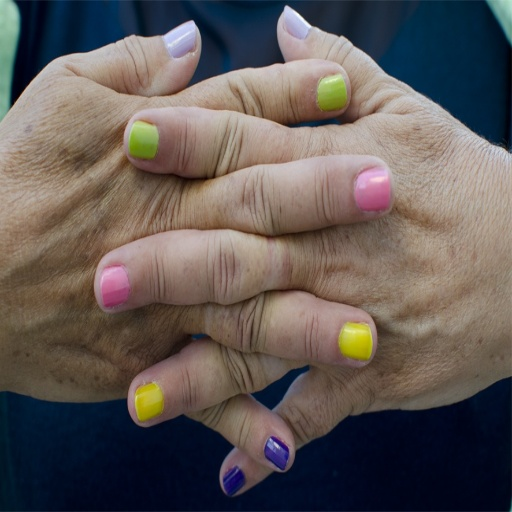hand: (93, 2, 510, 499)
